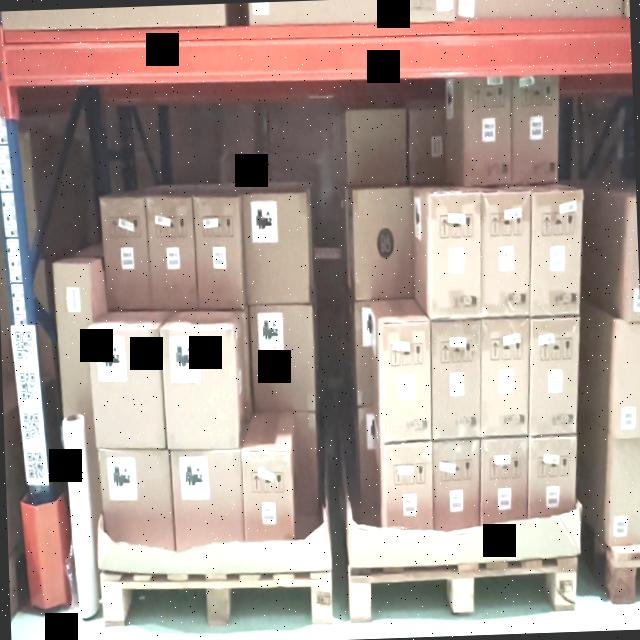box: (163, 326, 240, 449), (87, 328, 162, 448), (245, 188, 310, 300), (249, 306, 317, 411), (426, 192, 484, 312), (379, 318, 432, 442), (144, 192, 196, 312), (482, 194, 533, 316), (529, 317, 580, 431), (530, 194, 580, 308), (510, 76, 560, 190), (430, 322, 478, 440), (482, 316, 528, 436), (462, 76, 512, 186), (97, 202, 144, 316), (197, 194, 242, 306)
